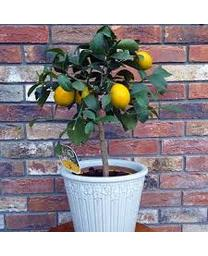lemon: (52, 82, 76, 106), (109, 85, 130, 110), (133, 51, 153, 71)
